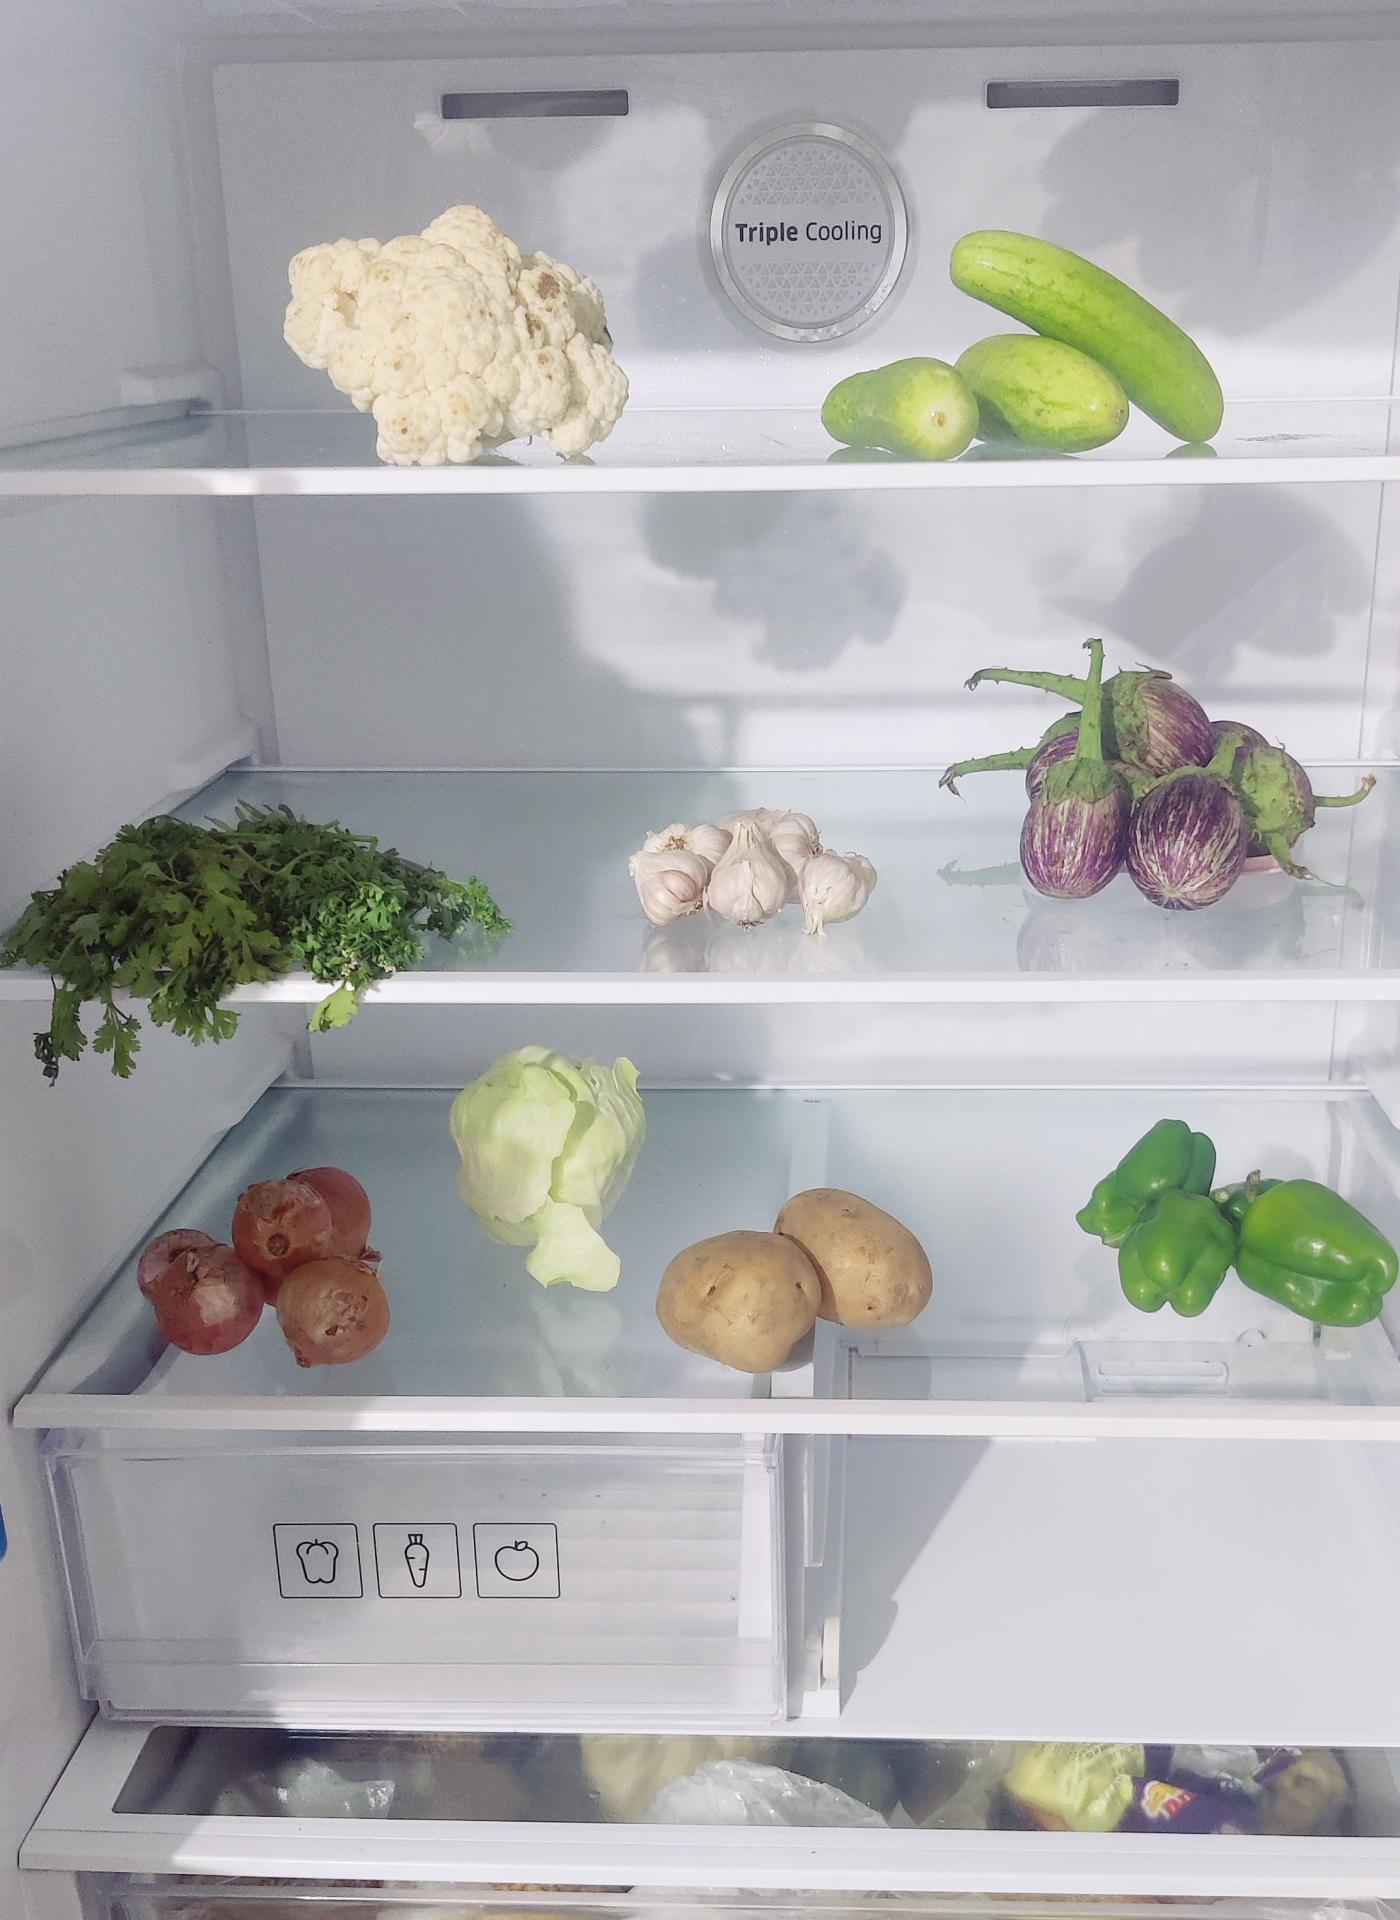brinjal: (986, 644, 1322, 902)
cabbage: (458, 1046, 650, 1236)
capsicum: (1082, 1124, 1400, 1327)
cauliflower: (288, 197, 637, 458)
coriander: (21, 799, 499, 1009)
cucumber: (811, 318, 1223, 464)
garlic: (635, 800, 881, 927)
onion: (140, 1169, 400, 1365)
potato: (653, 1184, 935, 1365)
